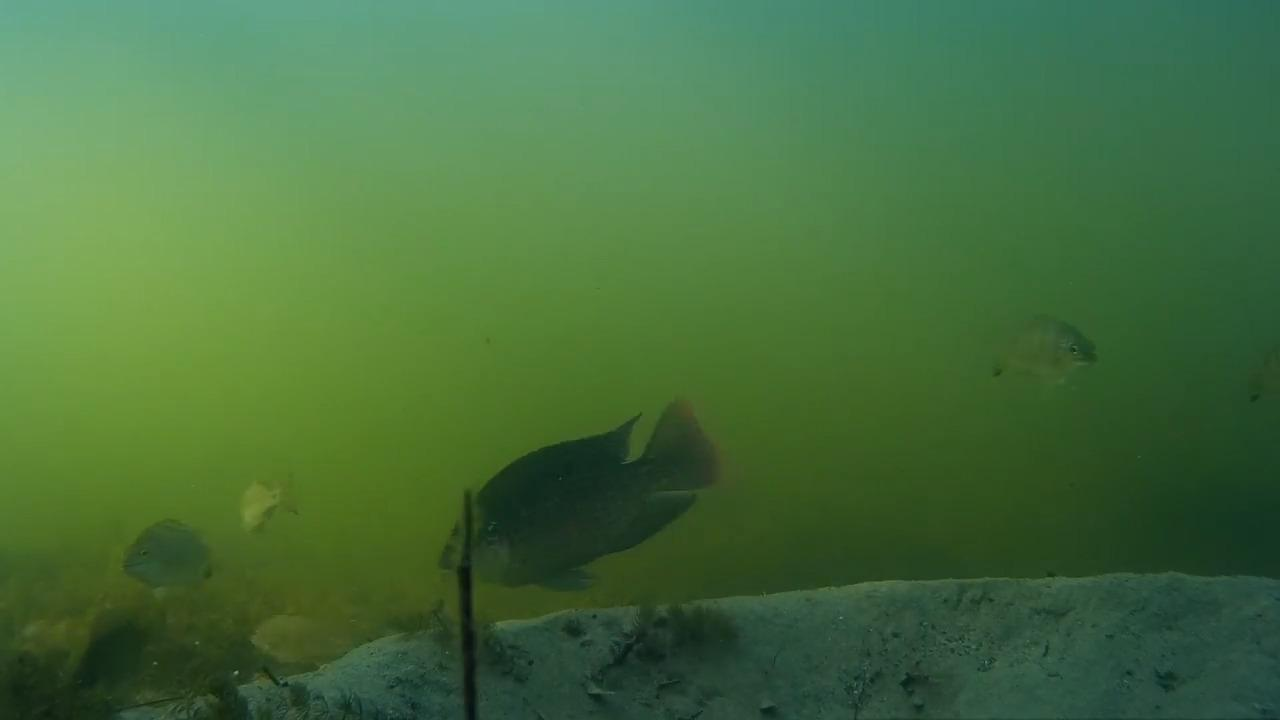Tilapia: (437, 396, 746, 595), (252, 604, 373, 704), (111, 504, 226, 602), (986, 316, 1097, 399), (233, 472, 308, 544)
